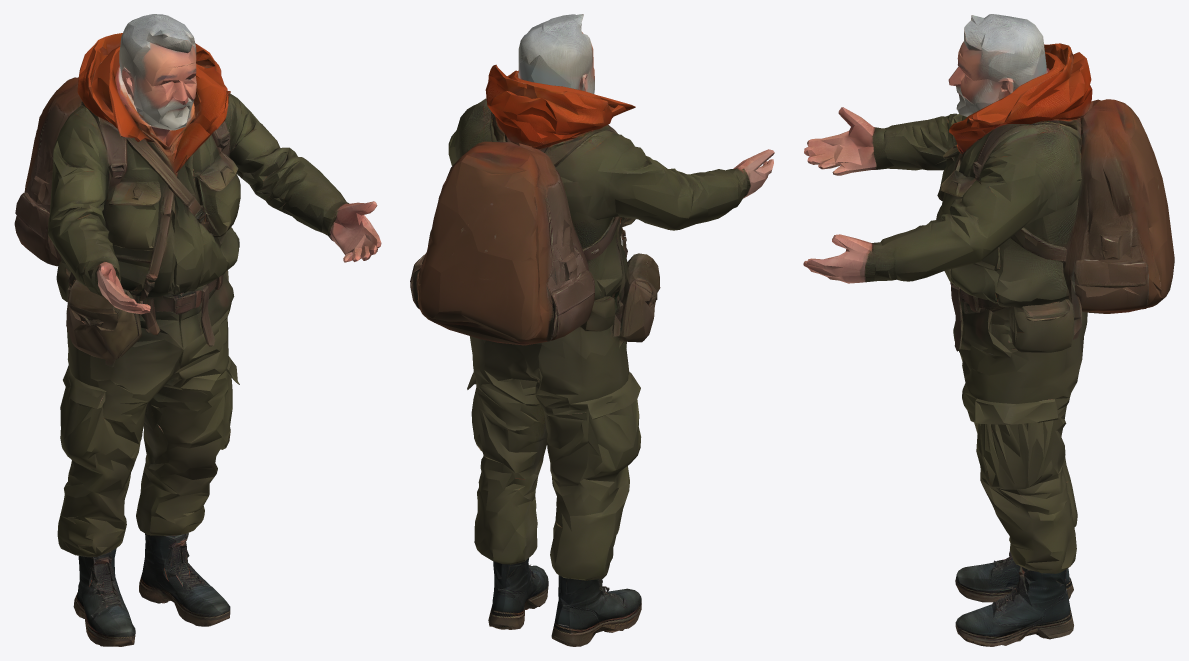
3 renders of one model, left to right at view 1: azimuth 30°, elevation 25°; view 2: azimuth 150°, elevation 25°; view 3: azimuth 270°, elevation 25°, orthographic.
Bounding box in the file's own units: 0.9021 × 1.9 × 1.06.
1 material, 1 textured.
